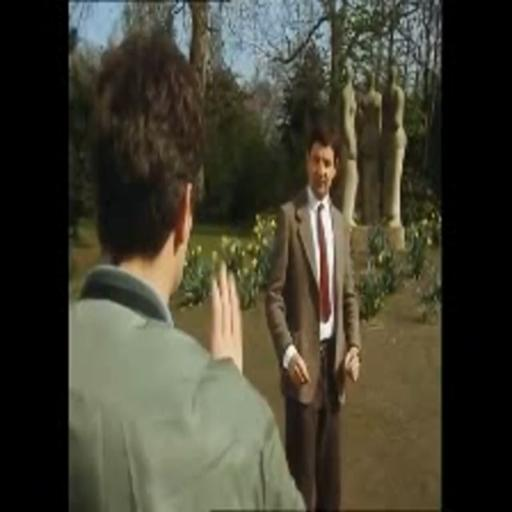nao-violencia: (69, 28, 377, 512)
